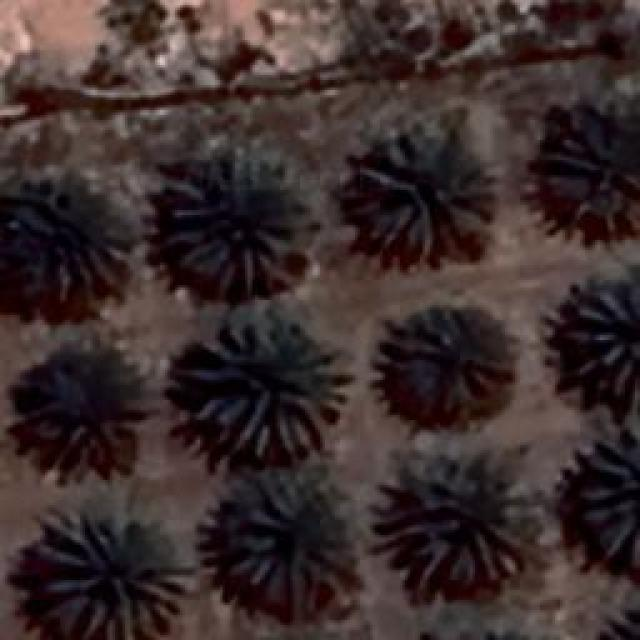PalmTree: (177, 310, 355, 462), (41, 48, 105, 415), (162, 150, 308, 295), (32, 510, 190, 638), (350, 125, 498, 258), (382, 460, 528, 588), (220, 472, 352, 598), (375, 305, 510, 420), (7, 170, 135, 290), (560, 272, 638, 406), (550, 110, 638, 215), (578, 428, 638, 562)
